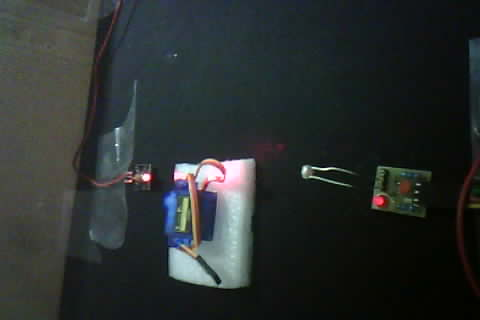motor: (161, 157, 258, 292)
